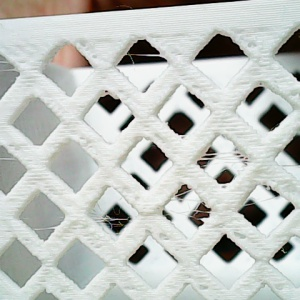3dpstringing: (163, 189, 215, 230), (84, 199, 134, 236), (197, 151, 254, 175), (116, 49, 165, 75), (240, 188, 288, 207), (1, 53, 33, 78), (31, 223, 66, 241), (276, 162, 299, 181)
3dpunderextrusion: (217, 222, 254, 249)
